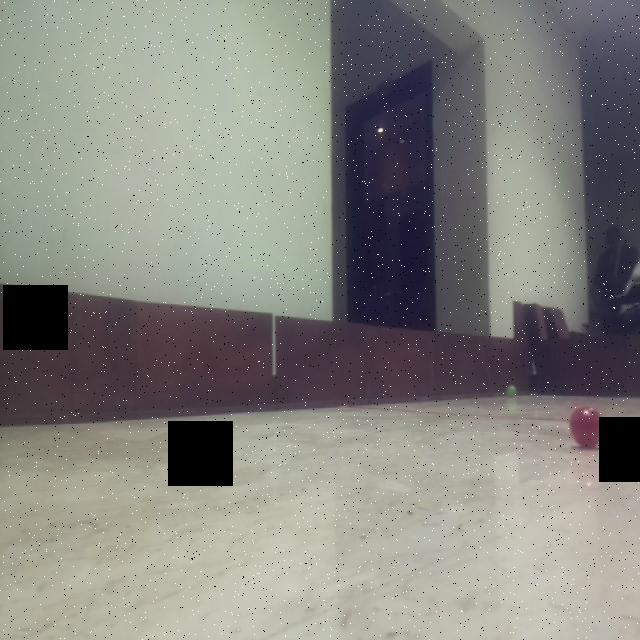ball: (567, 405, 607, 451), (505, 381, 523, 402)
